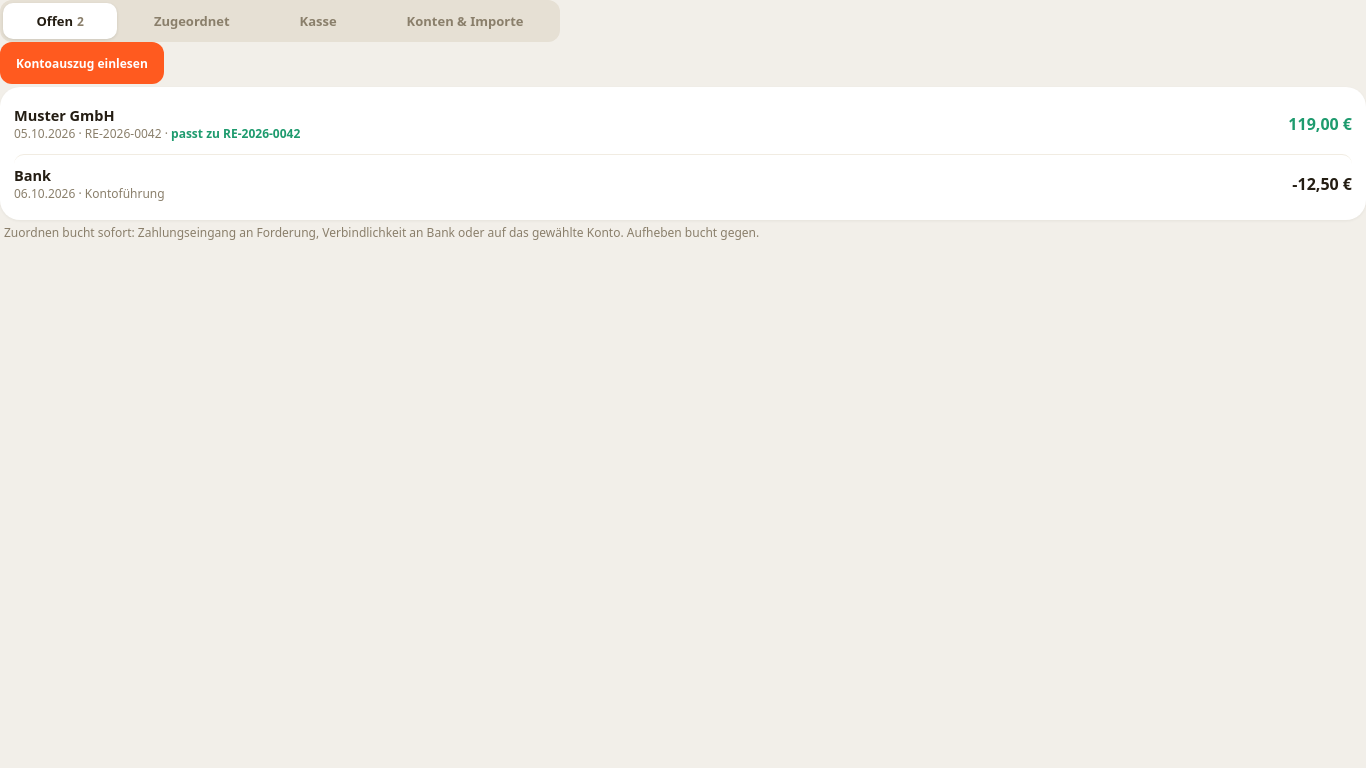
FinanceBank › ordnet einen Eingang der passenden Rechnung zu
Click the text "Muster GmbH": click(64, 115) [14, 105, 115, 125]
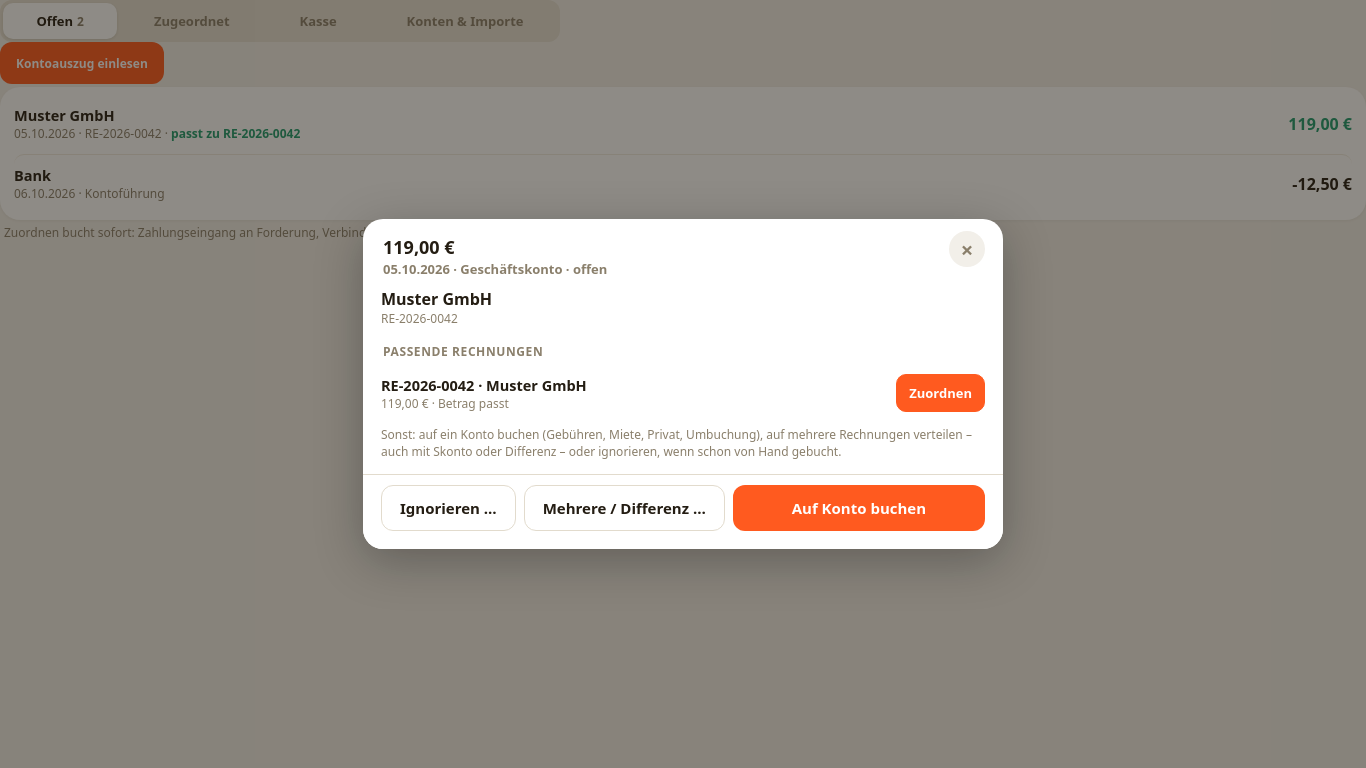
Now the text "RE-2026-0042 · Muster GmbH" is shown, box [381, 374, 587, 394]
Click the button "Zuordnen": click(941, 393) [896, 374, 985, 412]
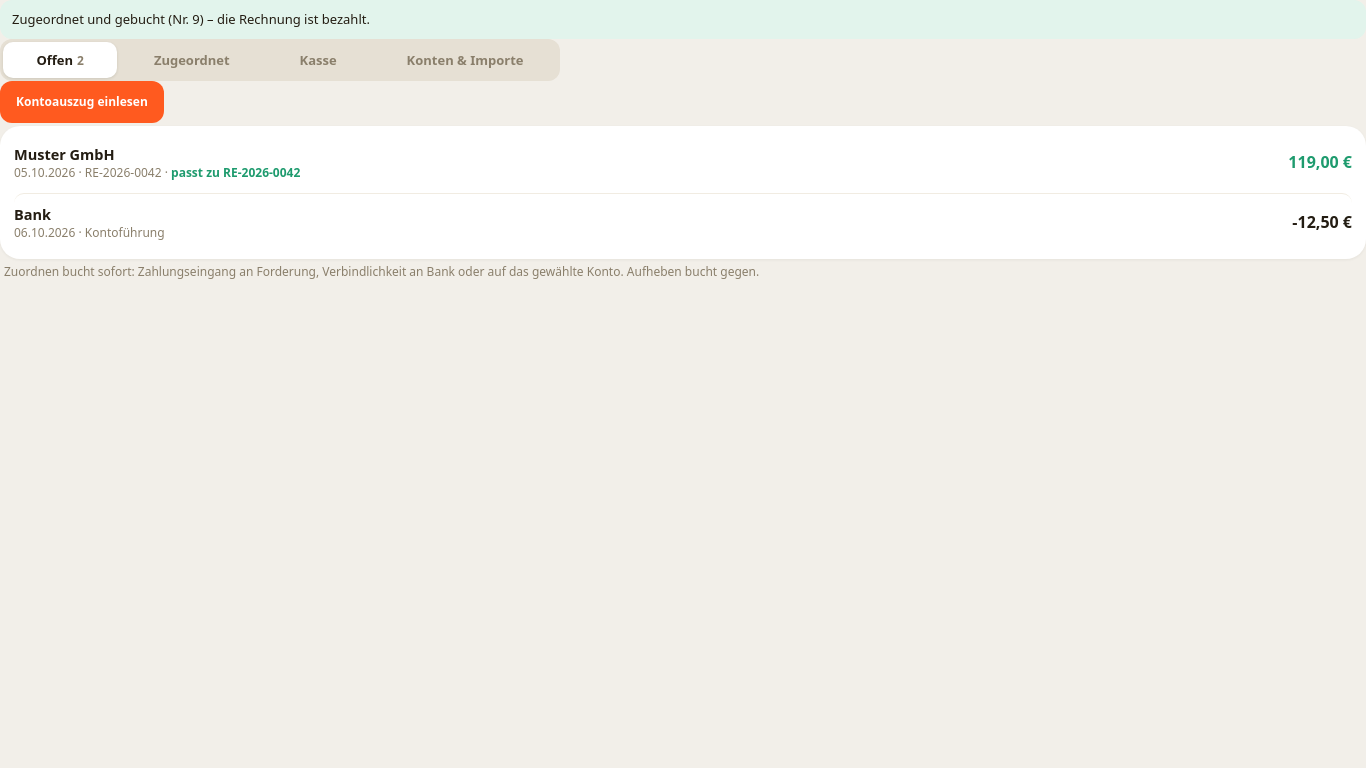
Now the text "Zugeordnet und gebucht (Nr. 9) – die Rechnung ist bezahlt." is shown, box [0, 0, 1365, 39]
